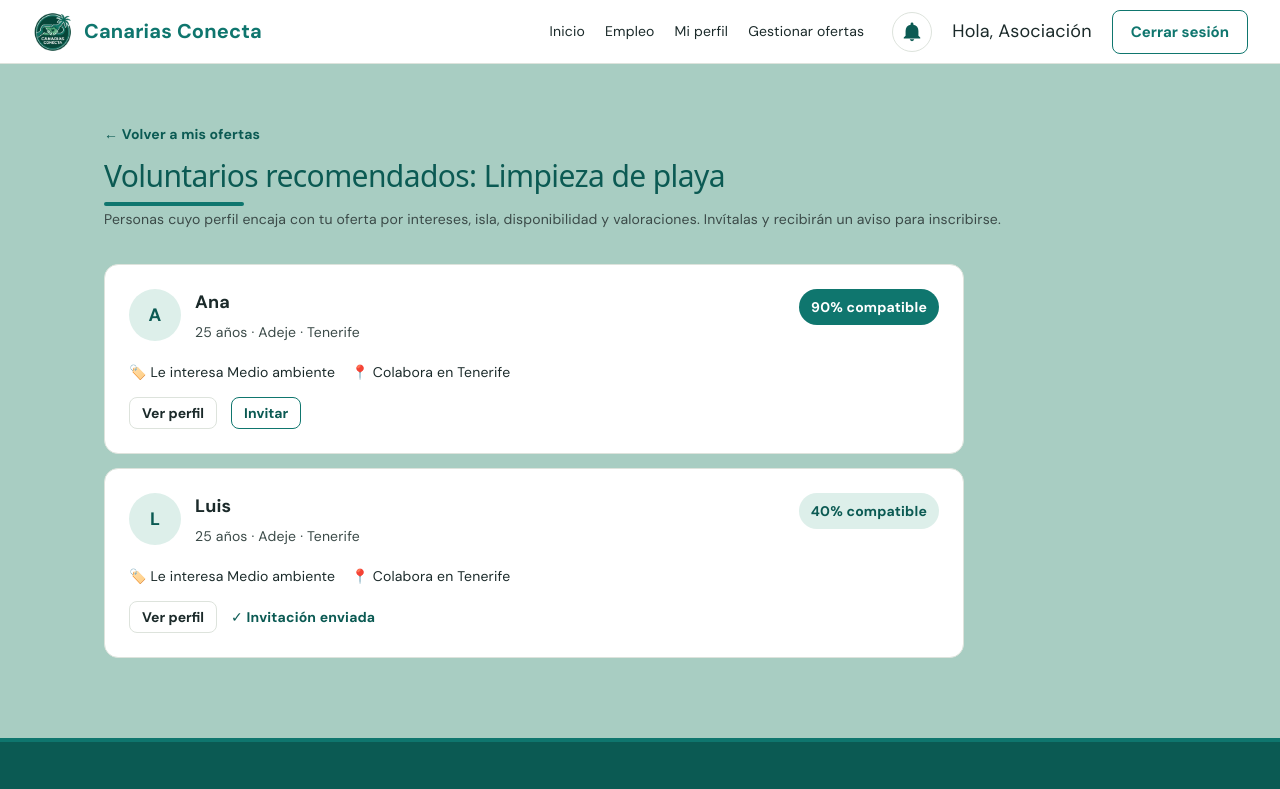
Test: VoluntariosRecomendados › muestra a los voluntarios con su compatibilidad, motivos y perfil
Expected: the heading "Voluntarios recomendados: Limpieza de playa" is shown, left=104, top=155, right=725, bottom=196
Expected: the text "90% compatible" is shown, left=799, top=289, right=939, bottom=325
Click the 1st button "Ver perfil" at coordinates (173, 413), box left=129, top=397, right=217, bottom=429
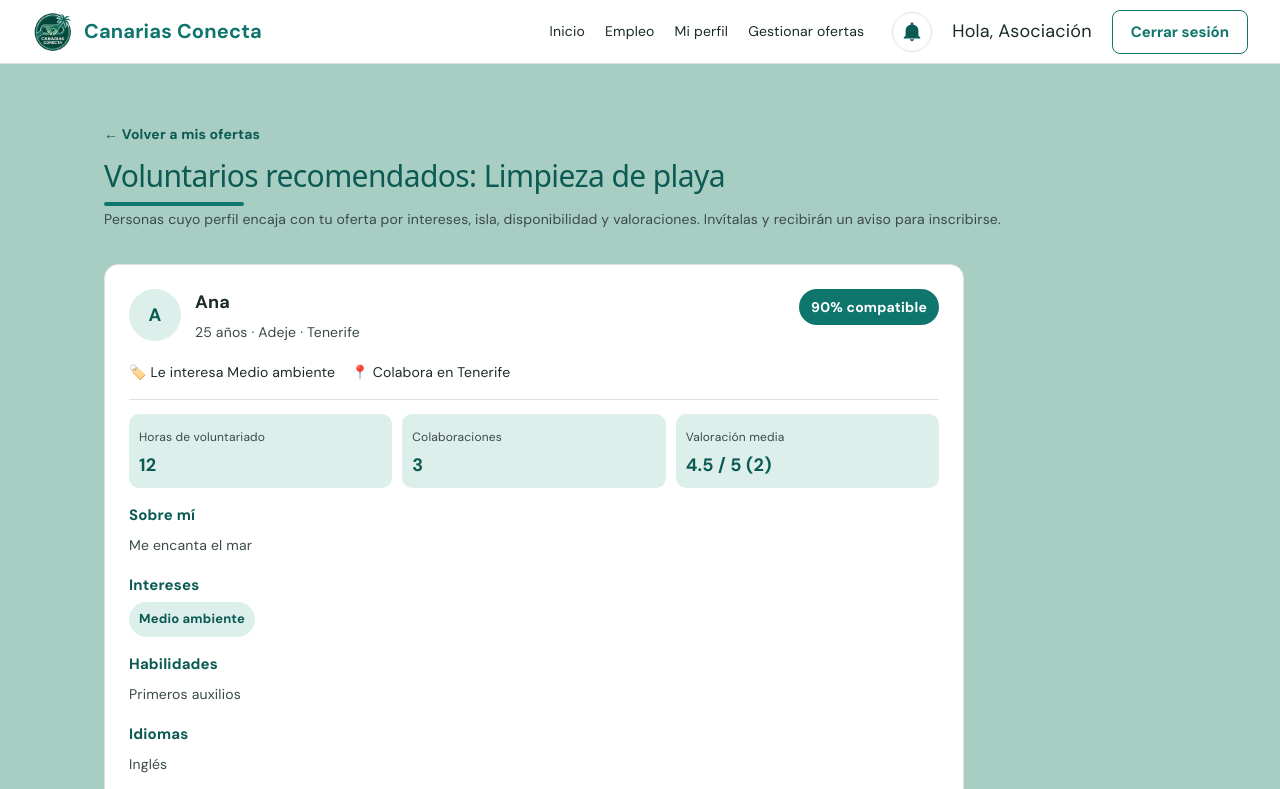
Expected: the text "Me encanta el mar" is shown, left=129, top=536, right=252, bottom=554
Expected: the text "4.5 / 5 (2)" is shown, left=686, top=453, right=772, bottom=477
